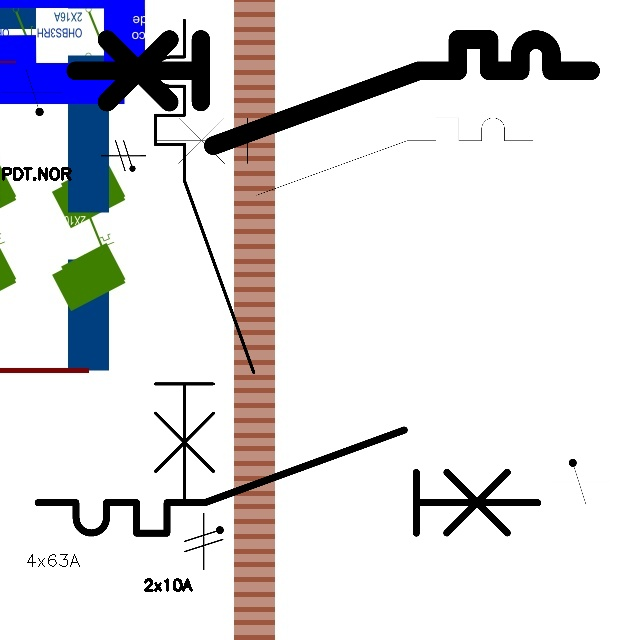interruptor_termomagnetico: (62, 26, 604, 158), (25, 417, 550, 546), (143, 8, 266, 512), (145, 108, 542, 205)
